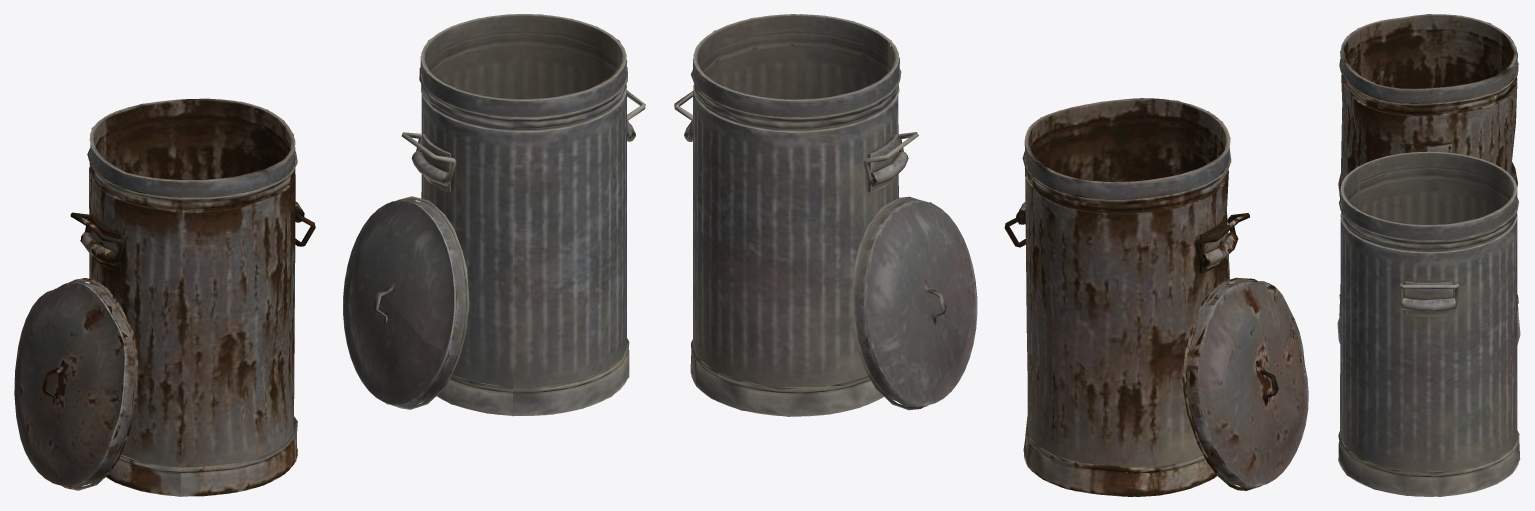
The model's file is ph_metal_trash_can.glb.
The picture shows the model from 3 angles, left to right: view 1: azimuth 30°, elevation 25°; view 2: azimuth 150°, elevation 25°; view 3: azimuth 270°, elevation 25°; orthographic projection. The views are drawn at different scales.
Visible parts, largest first — view 1: metal_trash_can_handle_left; view 2: metal_trash_can_handle_left; view 3: metal_trash_can_handle_left.
Part boxes in pixels (box(x1,y1,x2,y2)): metal_trash_can_handle_left: box(14, 14, 645, 496); metal_trash_can_handle_left: box(674, 14, 1308, 496); metal_trash_can_handle_left: box(1337, 14, 1520, 496).
Size of the model in its own units: 1.78 by 0.9063 by 0.5576.
3 materials, 3 textured.
